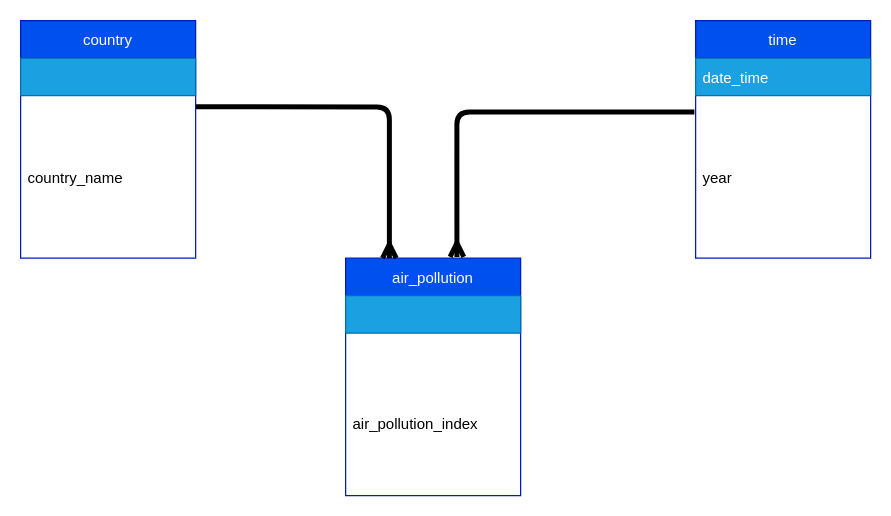
This 891x516 diagram has some shape labels left out. The centre of each missing label's shape, as x and y in pixels:
country_id: point 107,76
country_id year: point 432,313
